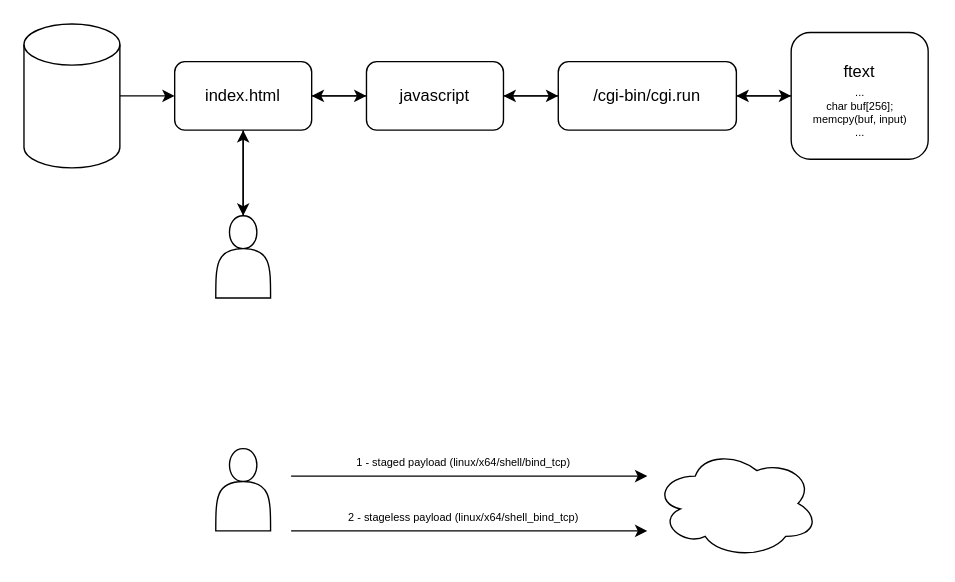
Image size: 955x582. Some labels were removed from this diagram. The centre of each missing label's shape, as x and y in pixels:
"Apache web server" belongs at point 71,95.
"Target" belongs at point 736,502.
